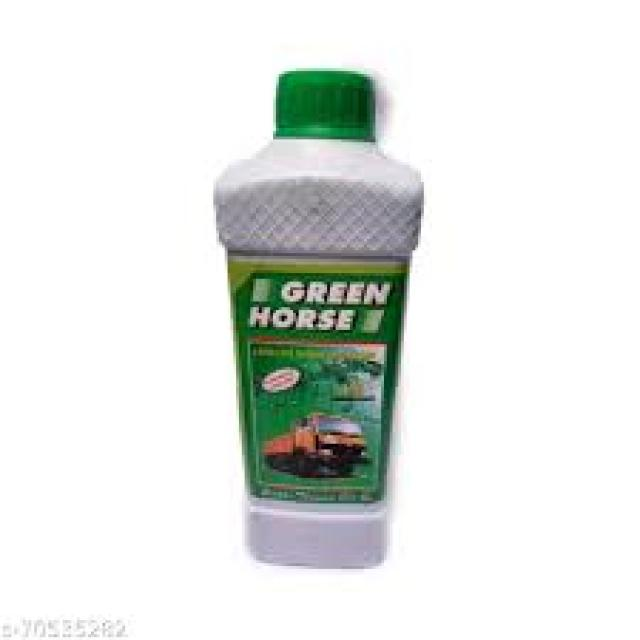coolant: (208, 65, 426, 576)
